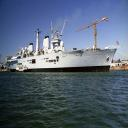Portanaves: (6, 20, 119, 74)
